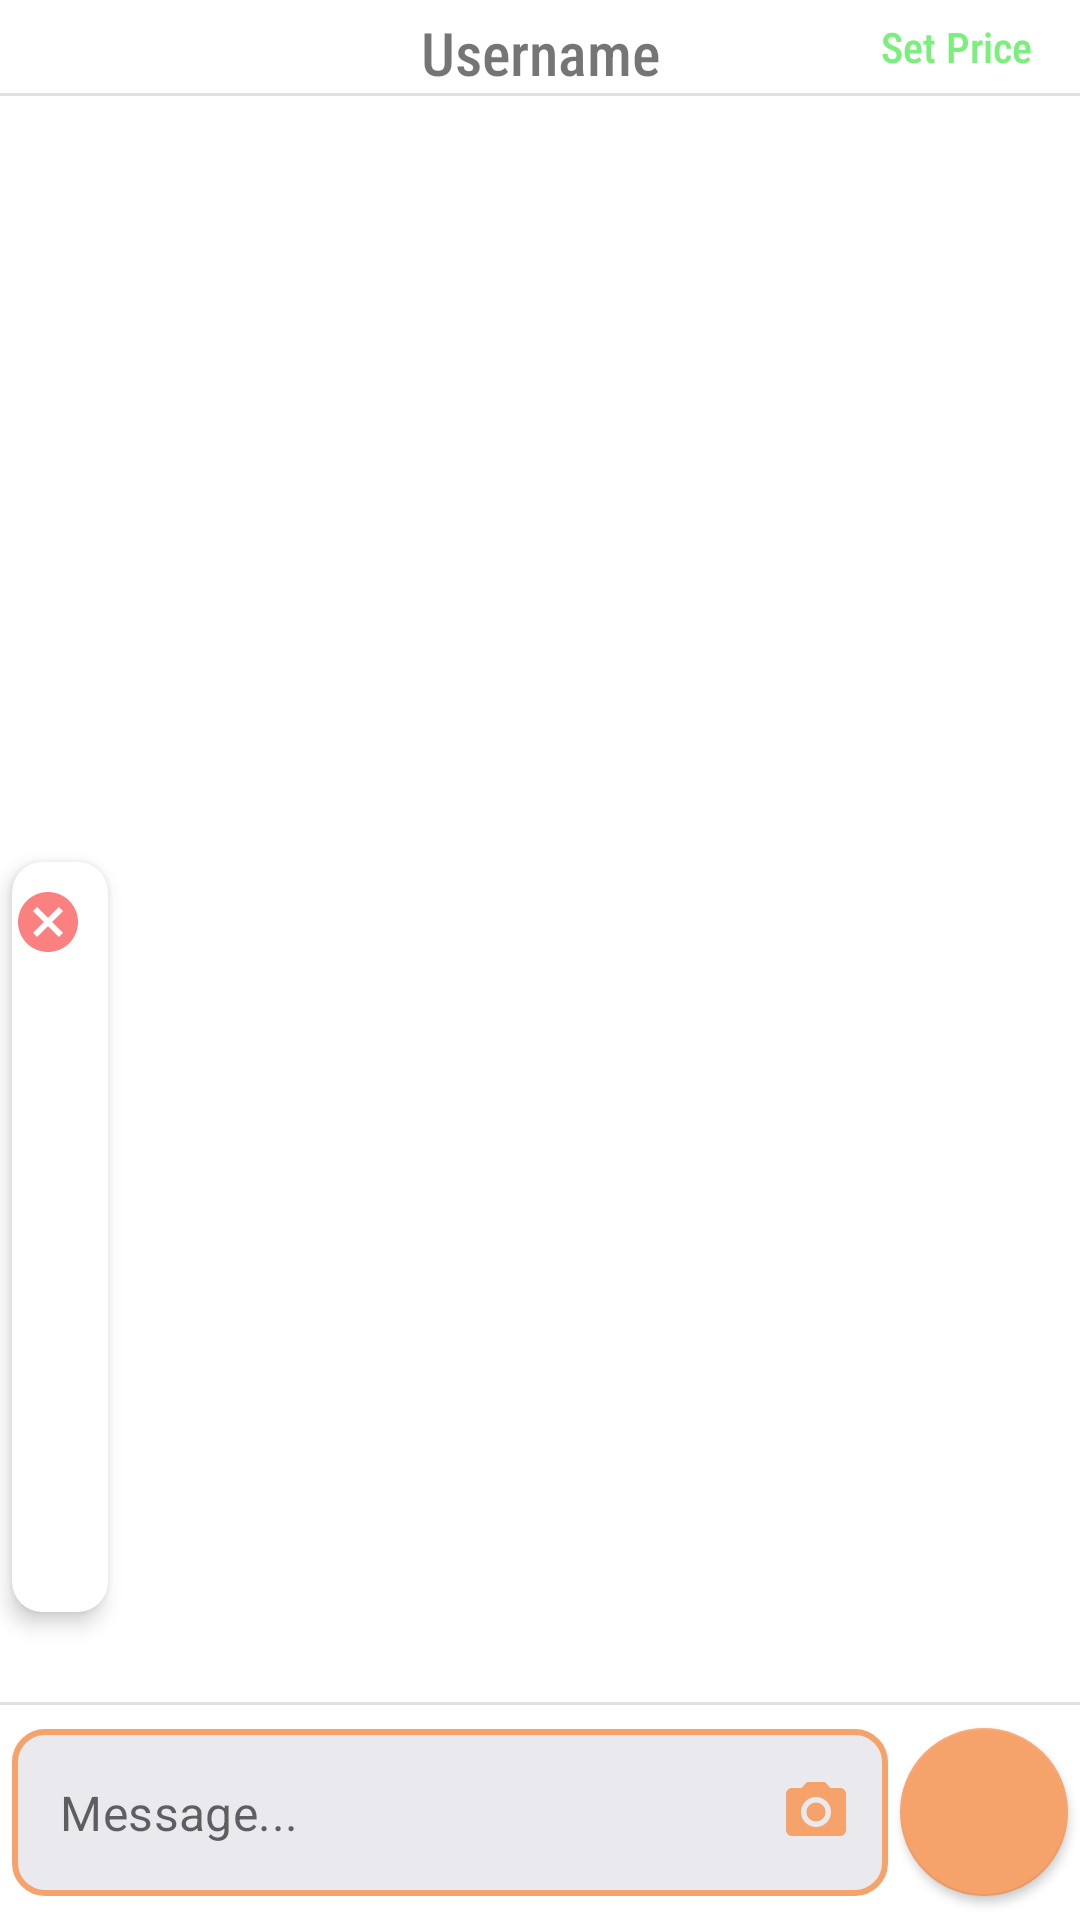

Icon bounding boxes for this 1080x1920 phone screenshot, format (x1, y1, x2, y2):
rejected: (18, 892, 78, 952)
